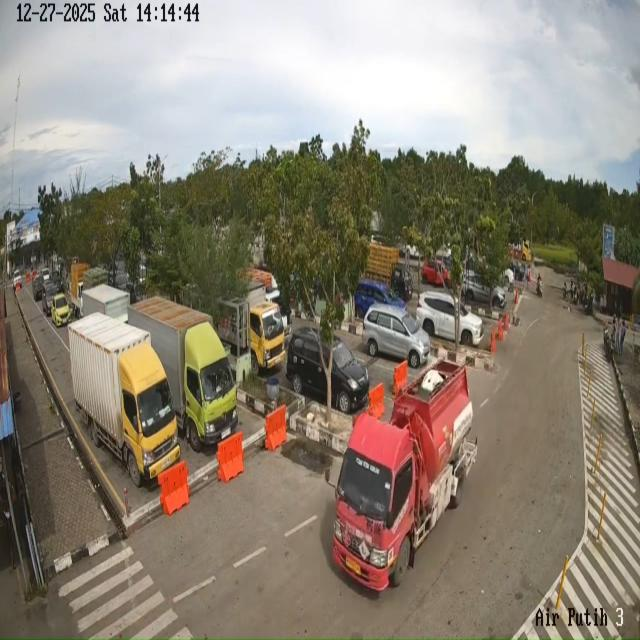Golongan IVA: (286, 327, 370, 414), (362, 304, 430, 369), (416, 291, 484, 347), (354, 279, 406, 320), (463, 271, 506, 308), (51, 293, 71, 328)
Golongan VB: (332, 361, 477, 591), (68, 313, 180, 486), (128, 297, 238, 451), (216, 280, 285, 374)
